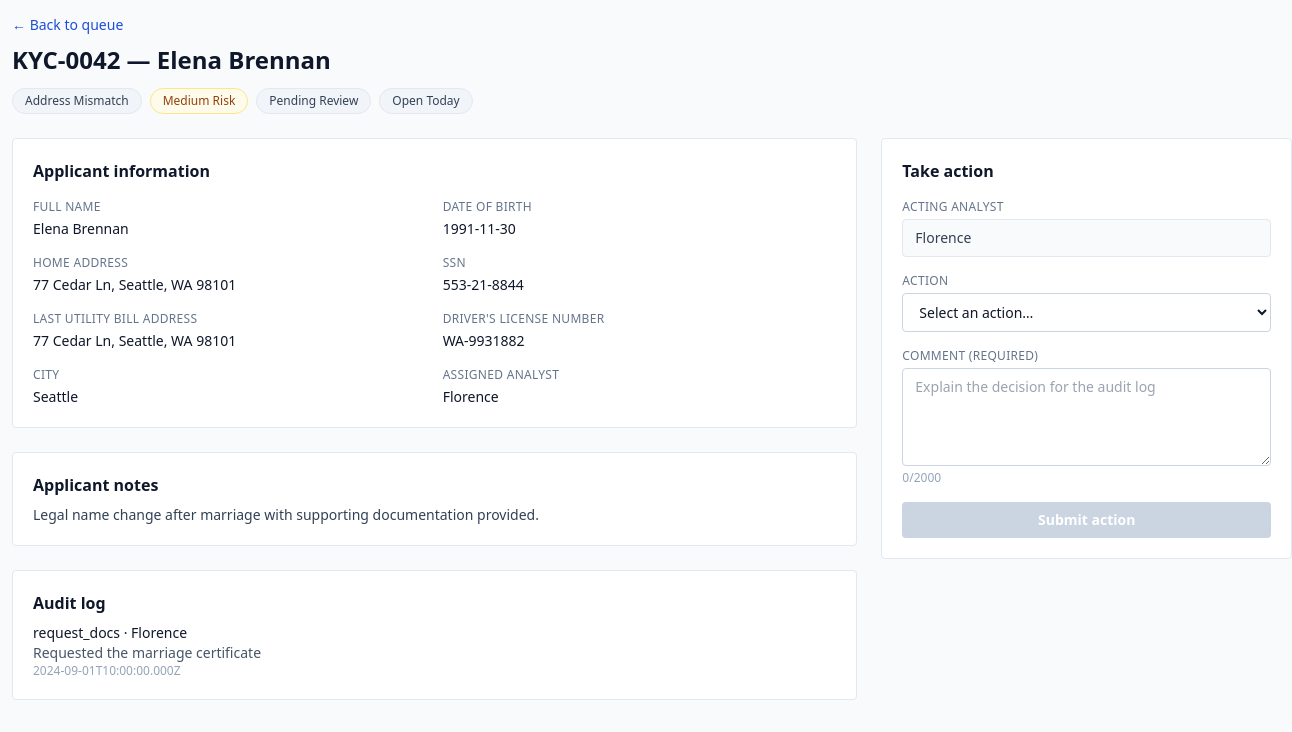
Test: CaseDetail › clears the chosen action after a successful submit
The width and height of the screenshot is (1292, 732).
Select "Escalate" in the dropdown labelled "Action" at x=1087, y=312, box [902, 293, 1271, 332]
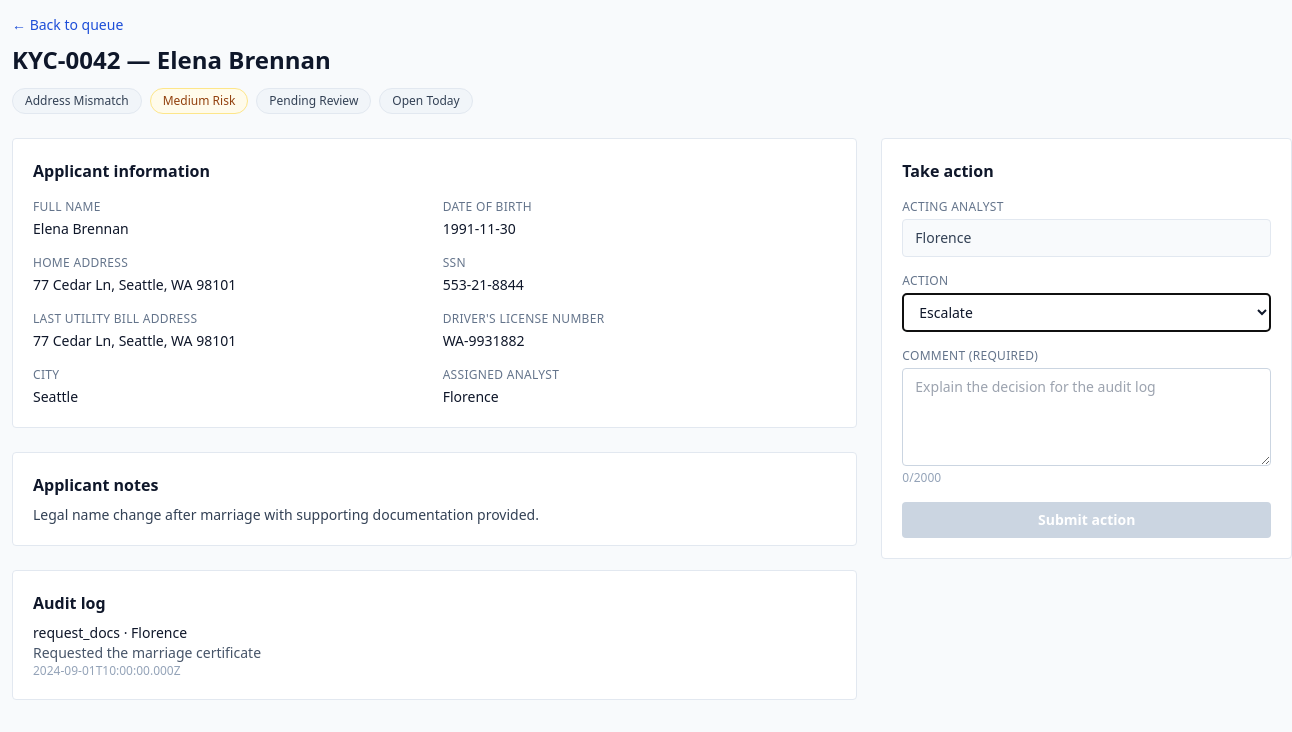
Type "Escalating to the sanctions desk" into the text box labelled "Comment (required)" at x=1087, y=417, box [902, 368, 1271, 466]
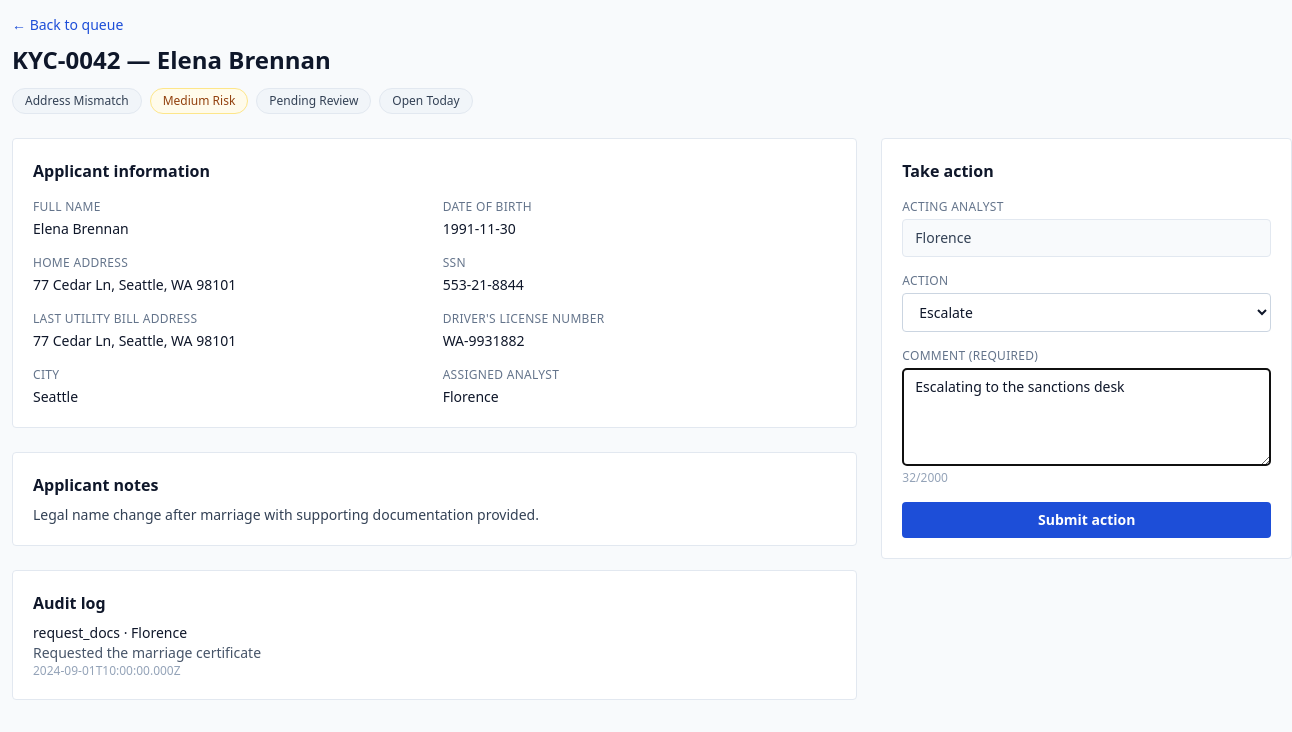
Click the button "Submit action" at x=1087, y=520, box [902, 502, 1271, 538]
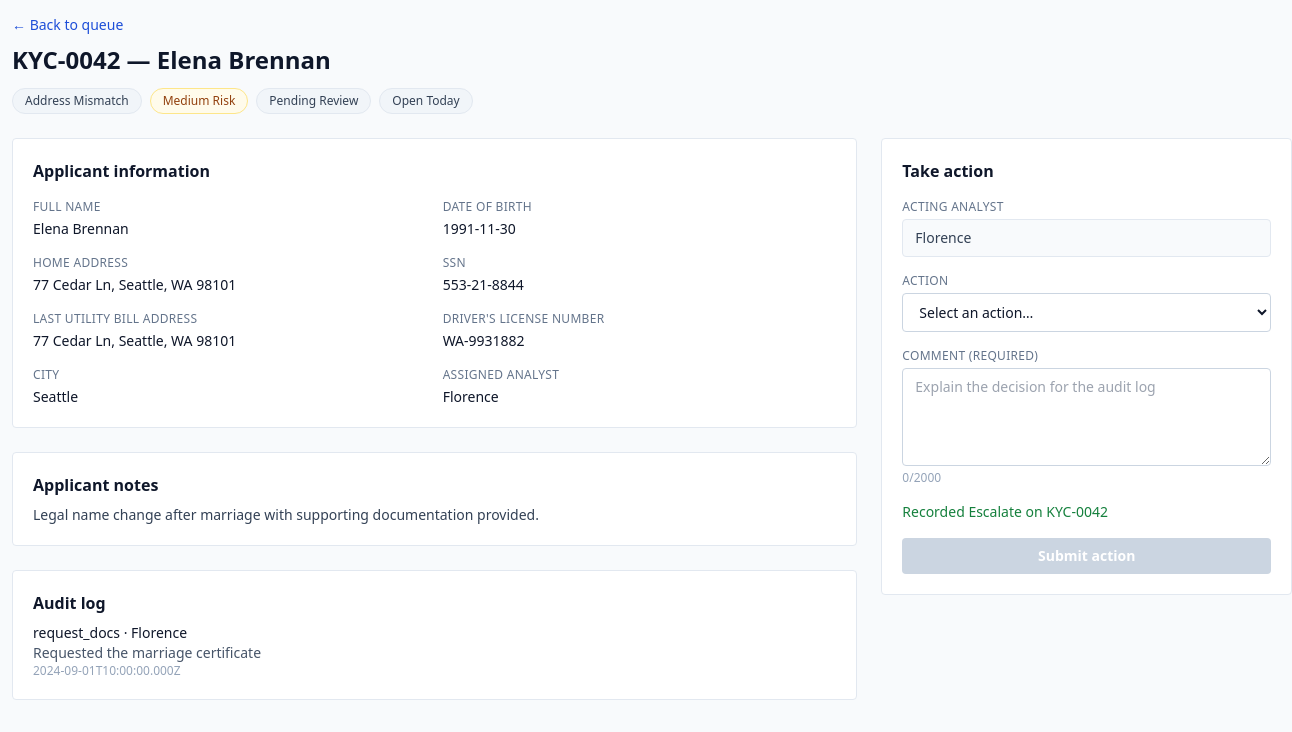
Expected: the message "Recorded Escalate on KYC-0042" is shown, [902, 502, 1108, 521]
Expected: the button "Submit action" is disabled, [902, 538, 1271, 574]
